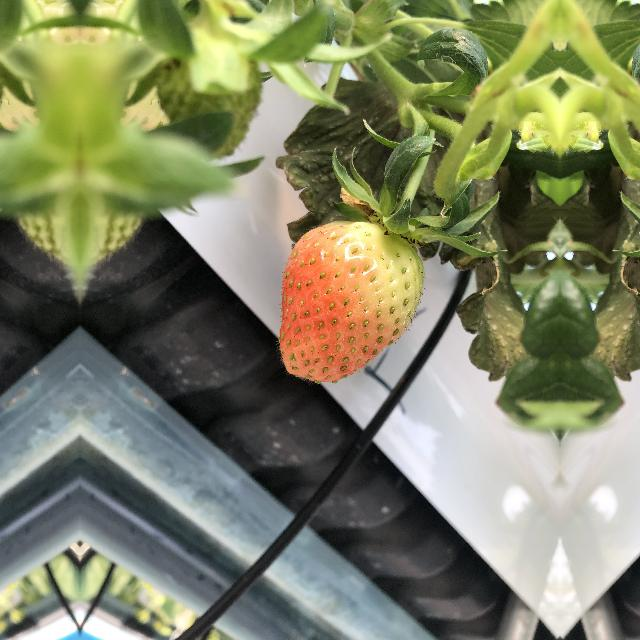Health_75: (270, 210, 430, 392)
